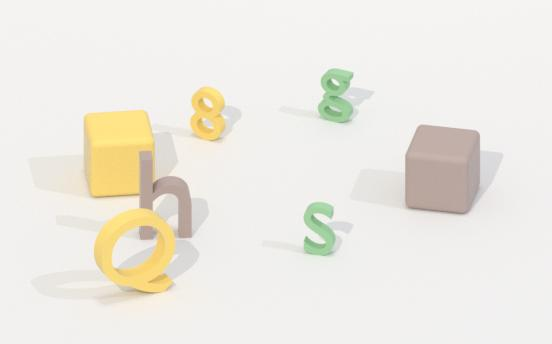8: (187, 85, 229, 144)
g: (317, 65, 358, 129)
h: (136, 146, 197, 243)
hop: (402, 123, 484, 217), (80, 107, 158, 201)
q: (90, 205, 180, 300)
s: (299, 200, 341, 259)
